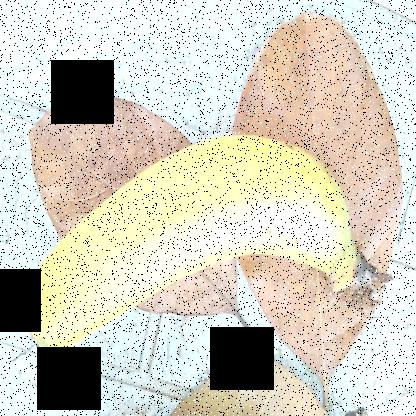freshripe: (13, 118, 365, 392)
